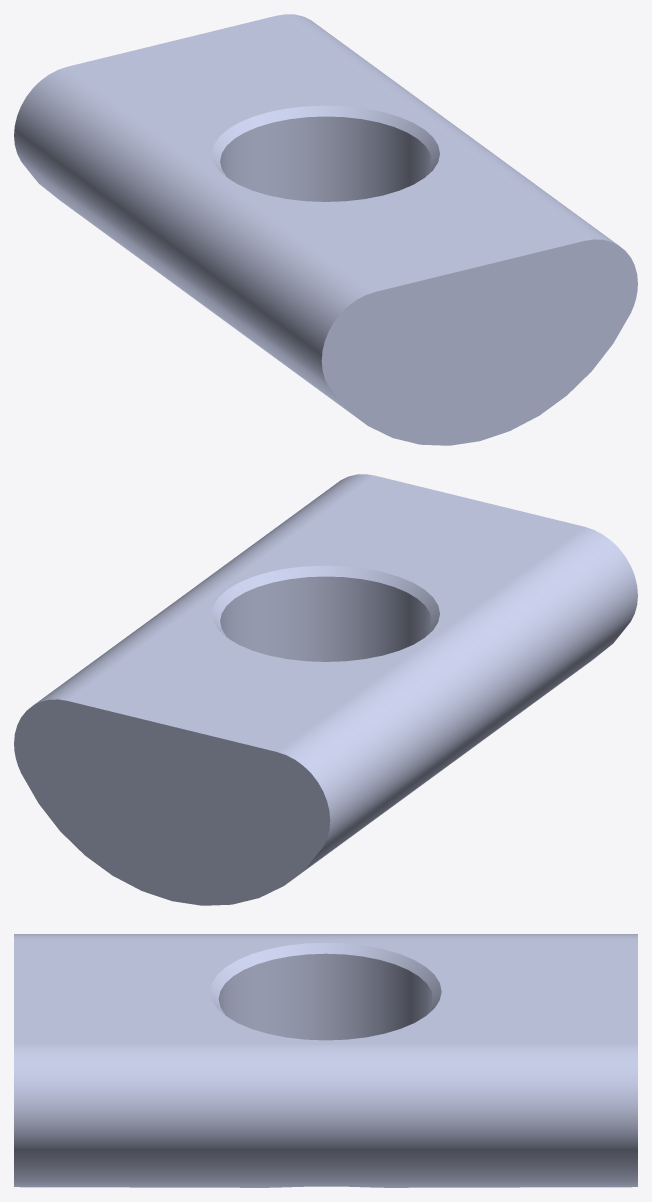
File: TPBQ-TPBQ-D-6-M6.glb
3 renders of one model, top to bottom at view 1: azimuth 30°, elevation 25°; view 2: azimuth 150°, elevation 25°; view 3: azimuth 270°, elevation 25°, orthographic.
Parts seen in each view (by area): view 1: 1740313841104; view 2: 1740313841104; view 3: 1740313841104.
Part boxes in pixels (box(x1,y1,x2,y2)): 1740313841104: box(14, 14, 637, 445); 1740313841104: box(14, 474, 637, 905); 1740313841104: box(14, 934, 637, 1187).
Bounding box in the file's own units: 0.0089 × 0.0047 × 0.015.
